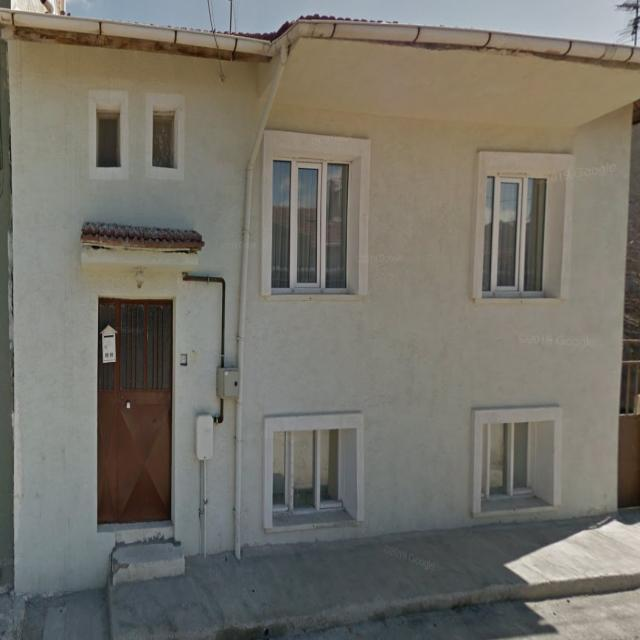Building: (0, 9, 640, 599)
